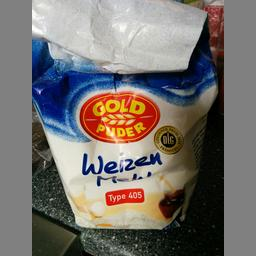flour: (31, 0, 217, 229)
